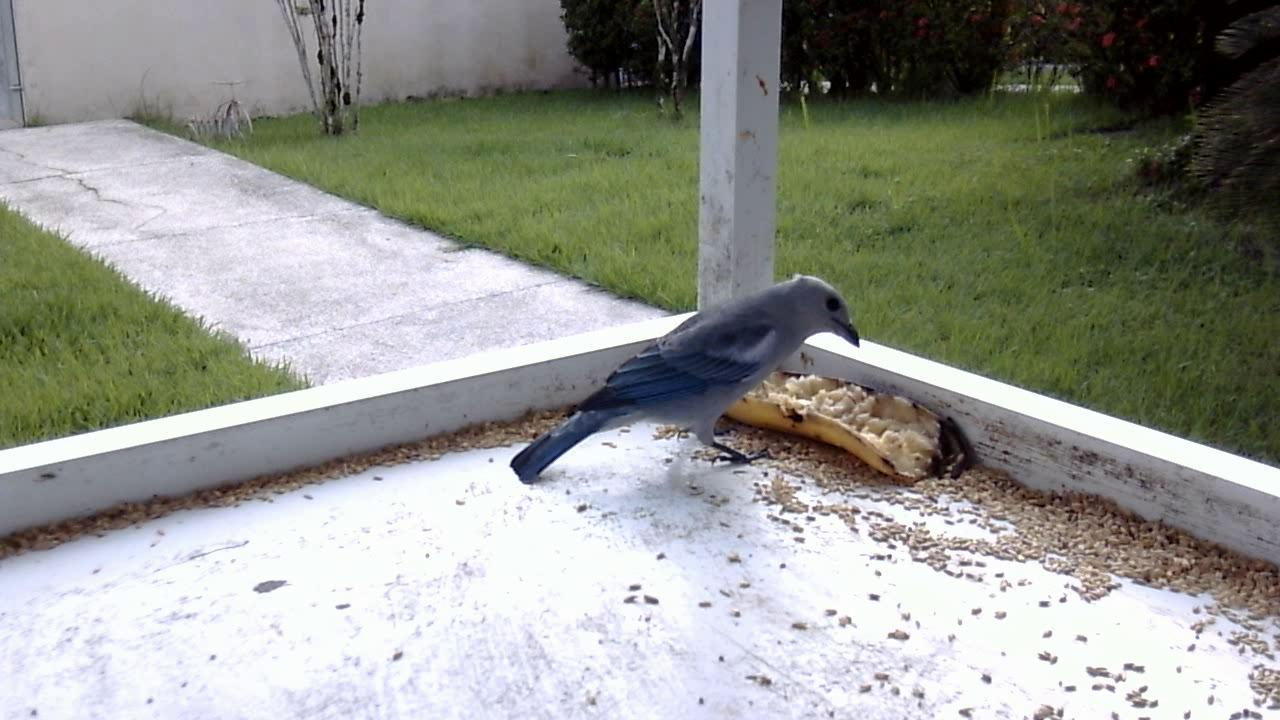sanhaco_da_amazonia: (507, 267, 863, 494)
